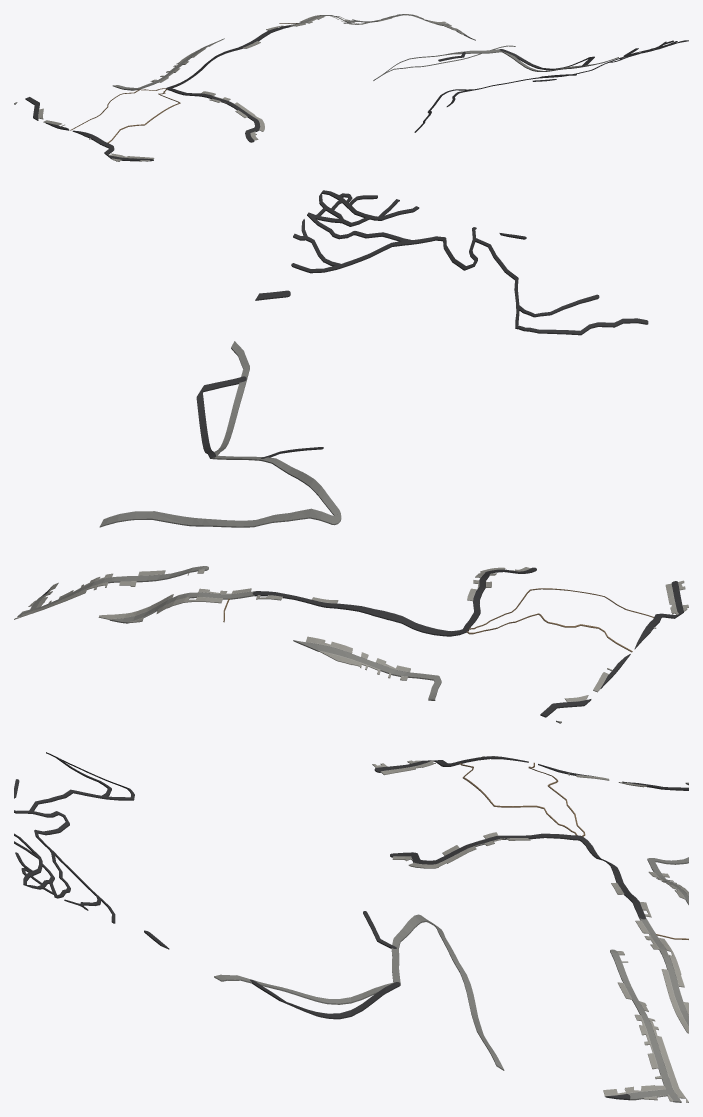
3 views of the same model, one above another, from view 1: azimuth 30°, elevation 25°; view 2: azimuth 150°, elevation 25°; view 3: azimuth 270°, elevation 25° (orthographic). The views are drawn at different scales.
Size of the model in its own units: 587 by 214 by 583.
